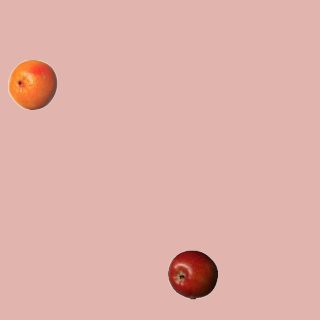Apple Braeburn: (167, 249, 217, 299)
Grapefruit Pink: (7, 59, 57, 109)
